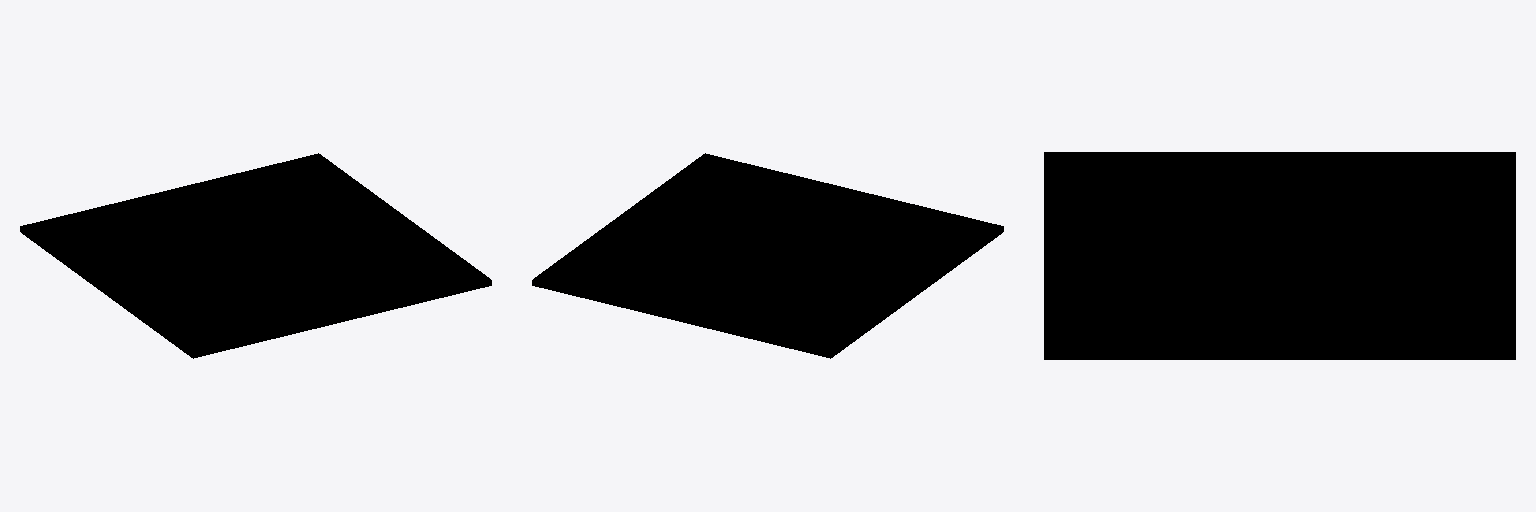
robot.urdf — cube:
<?xml version="1.0" ?>
<robot name="cube">
  <link name="cube_base_link">
    <contact>
      <restitution value="0.1"/>
      <lateral_friction value="1.0"/>
      <contact_cfm value="0.0"/>
      <contact_erp value="1.0"/>
    </contact>
    <inertial>
      <origin rpy="0 0 0" xyz="0 0 0"/>
       <mass value="0.1"/>
       <inertia ixx="0.01" ixy="0" ixz="0" iyy="0.01" iyz="0" izz="0.01"/>
    </inertial>
    <visual>
      <origin rpy="0 0 0" xyz="0 0 0"/>
      <geometry>
		<box size="1.0 1.0 0.02"/>
      </geometry>
       <material name="black">
        <color rgba="0 0 0 1"/>
      </material>
    </visual>
    <collision>
      <origin rpy="0 0 0" xyz="0 0 0"/>
      <geometry>
	 	<box size="1.0 1.0 0.02"/>
      </geometry>
    </collision>
  </link>
</robot>

--- Render facts (derived) ---
The picture shows the robot from 3 angles, left to right: view 1: azimuth 30°, elevation 25°; view 2: azimuth 150°, elevation 25°; view 3: azimuth 270°, elevation 25°; orthographic projection.
Robot: cube — 1 links, 0 joints (none); root link cube_base_link; default pose: all joints at 0.
Visible links, largest first — view 1: cube_base_link; view 2: cube_base_link; view 3: cube_base_link.
Link boxes in pixels (x1,y1,x2,y2): cube_base_link: [20, 153, 491, 358]; cube_base_link: [532, 153, 1003, 358]; cube_base_link: [1044, 152, 1515, 359].
Bounding box of the posed robot: 1 × 1 × 0.02 m (x, y, z).
Geometry: primitives only (box / cylinder / sphere), no mesh files.
